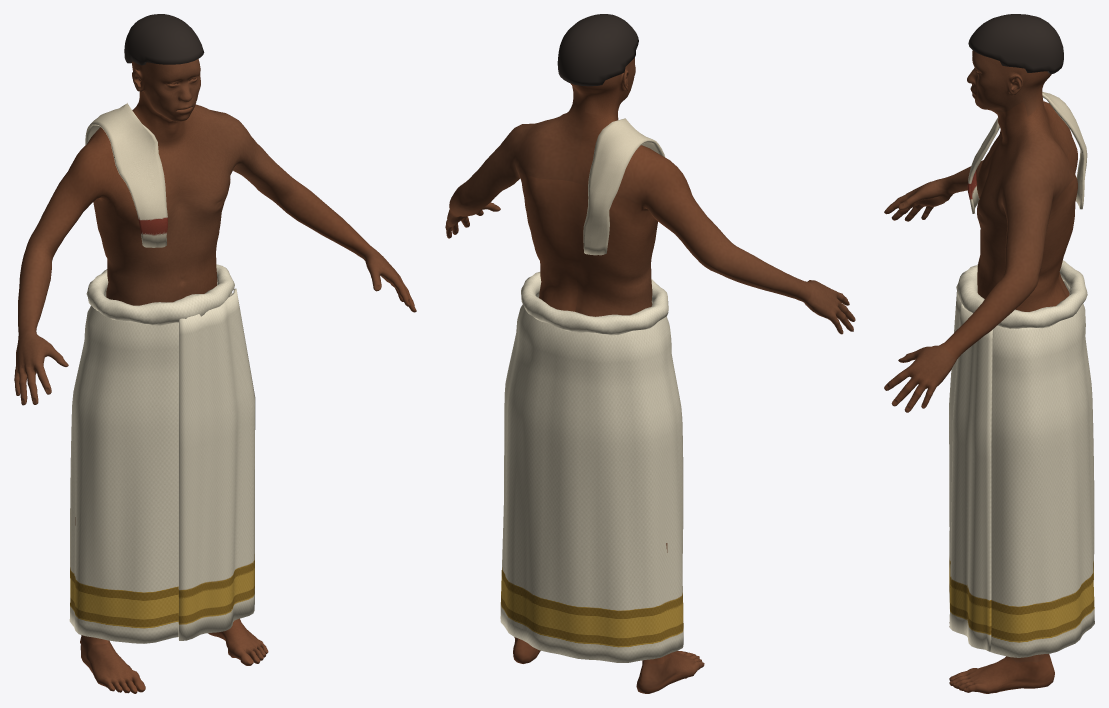
Rendered from karyasthan.fbx.
3 renders of one model, left to right at view 1: azimuth 30°, elevation 25°; view 2: azimuth 150°, elevation 25°; view 3: azimuth 270°, elevation 25°, orthographic.
Visible parts, largest first — view 1: Mixamo_karyasthan; view 2: Mixamo_karyasthan; view 3: Mixamo_karyasthan.
Boxes of the visible parts, <box> form: Mixamo_karyasthan: <box>14,14,416,693</box>; Mixamo_karyasthan: <box>445,14,855,693</box>; Mixamo_karyasthan: <box>884,14,1094,693</box>.
Size of the model in its own units: 1.11 by 1.72 by 0.5143.
4 materials, 3 textured.
